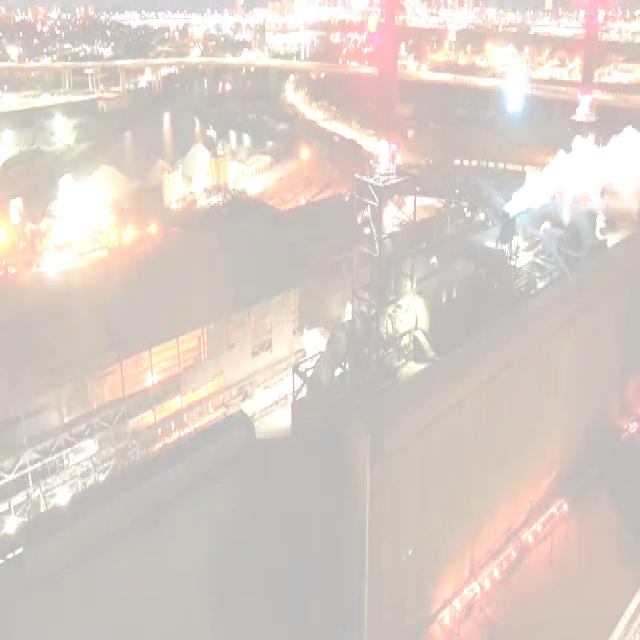smoke: (504, 98, 640, 236)
